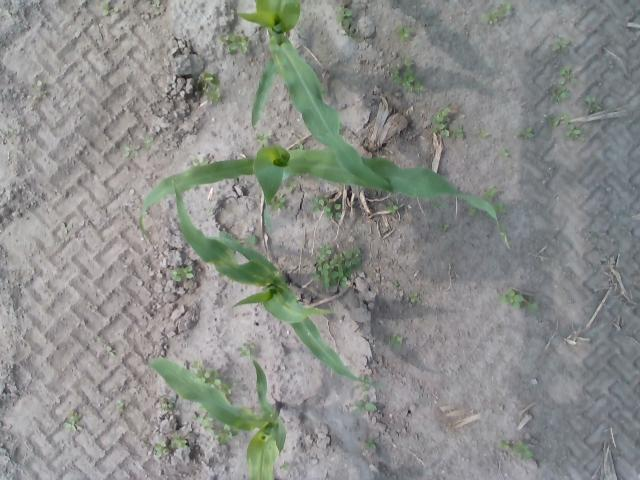Maize: (174, 182, 373, 386), (140, 146, 510, 250), (232, 0, 391, 192), (148, 356, 287, 480)
Weeds: (316, 247, 362, 287), (152, 438, 188, 458), (435, 107, 450, 137), (228, 36, 250, 54), (212, 427, 234, 445), (502, 290, 522, 309), (356, 396, 376, 414), (172, 265, 194, 281), (516, 440, 532, 461), (585, 96, 603, 114), (237, 342, 256, 359), (558, 66, 576, 83), (396, 70, 414, 86), (335, 7, 353, 23), (326, 200, 342, 218), (198, 366, 218, 380), (552, 86, 569, 102), (200, 70, 215, 86), (160, 400, 176, 414), (552, 40, 570, 52), (364, 440, 379, 454), (498, 4, 512, 18), (396, 26, 411, 39), (308, 197, 324, 209), (518, 127, 534, 139), (566, 125, 580, 138), (274, 196, 286, 210), (498, 440, 512, 452), (390, 333, 404, 344), (104, 344, 116, 356), (68, 416, 80, 428), (486, 12, 498, 24), (196, 414, 209, 424), (101, 3, 111, 15), (388, 204, 398, 216), (412, 83, 423, 91), (118, 400, 126, 409), (407, 297, 415, 305), (442, 223, 449, 232), (206, 86, 210, 94)
